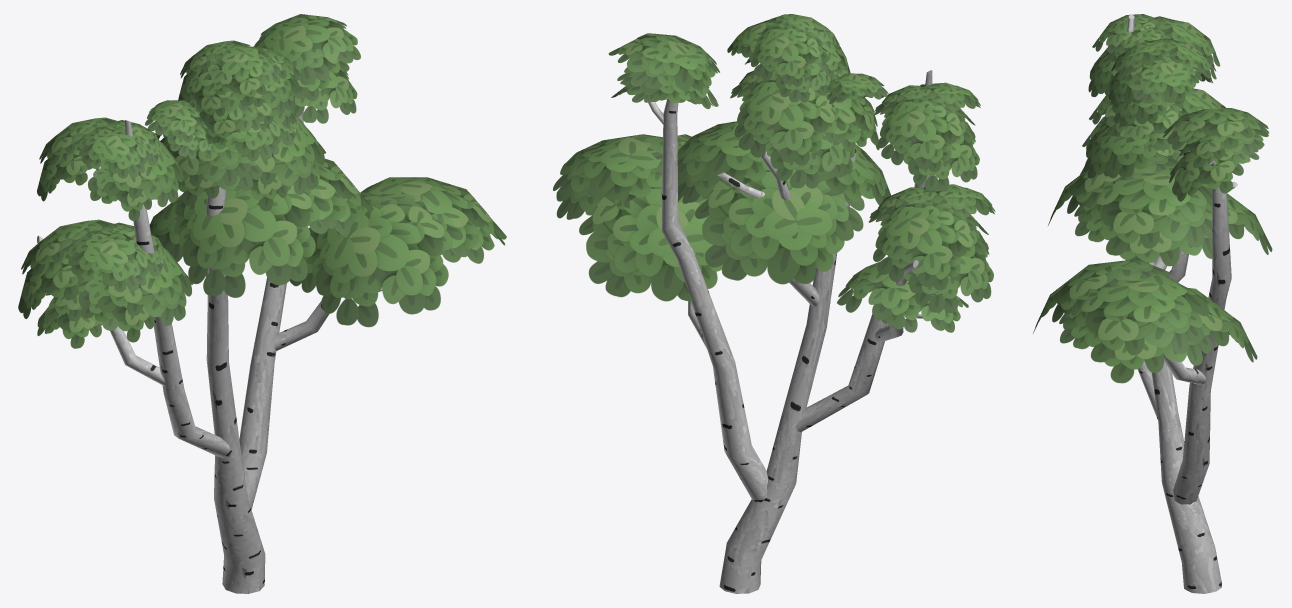
File: Birch_3.glb
3 views of the same model, side by side, from view 1: azimuth 30°, elevation 25°; view 2: azimuth 150°, elevation 25°; view 3: azimuth 270°, elevation 25° (orthographic). The views are drawn at different scales.
Visible parts, largest first — view 1: Birch_3; view 2: Birch_3; view 3: Birch_3.
Boxes of the visible parts, bbox=[...] form: Birch_3: bbox=[18, 14, 506, 593]; Birch_3: bbox=[553, 14, 995, 593]; Birch_3: bbox=[1033, 14, 1272, 593].
Size of the model in its own units: 8.76 by 10.3 by 4.35.
2 materials, 2 textured.
